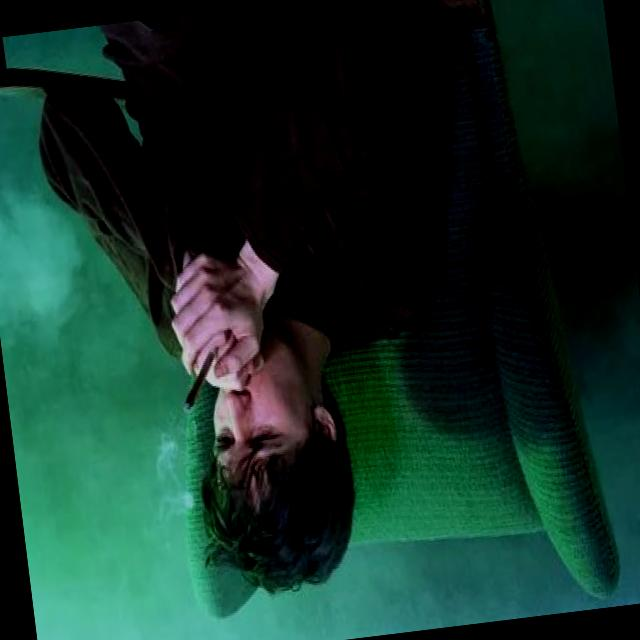cigarette: (170, 341, 238, 416)
